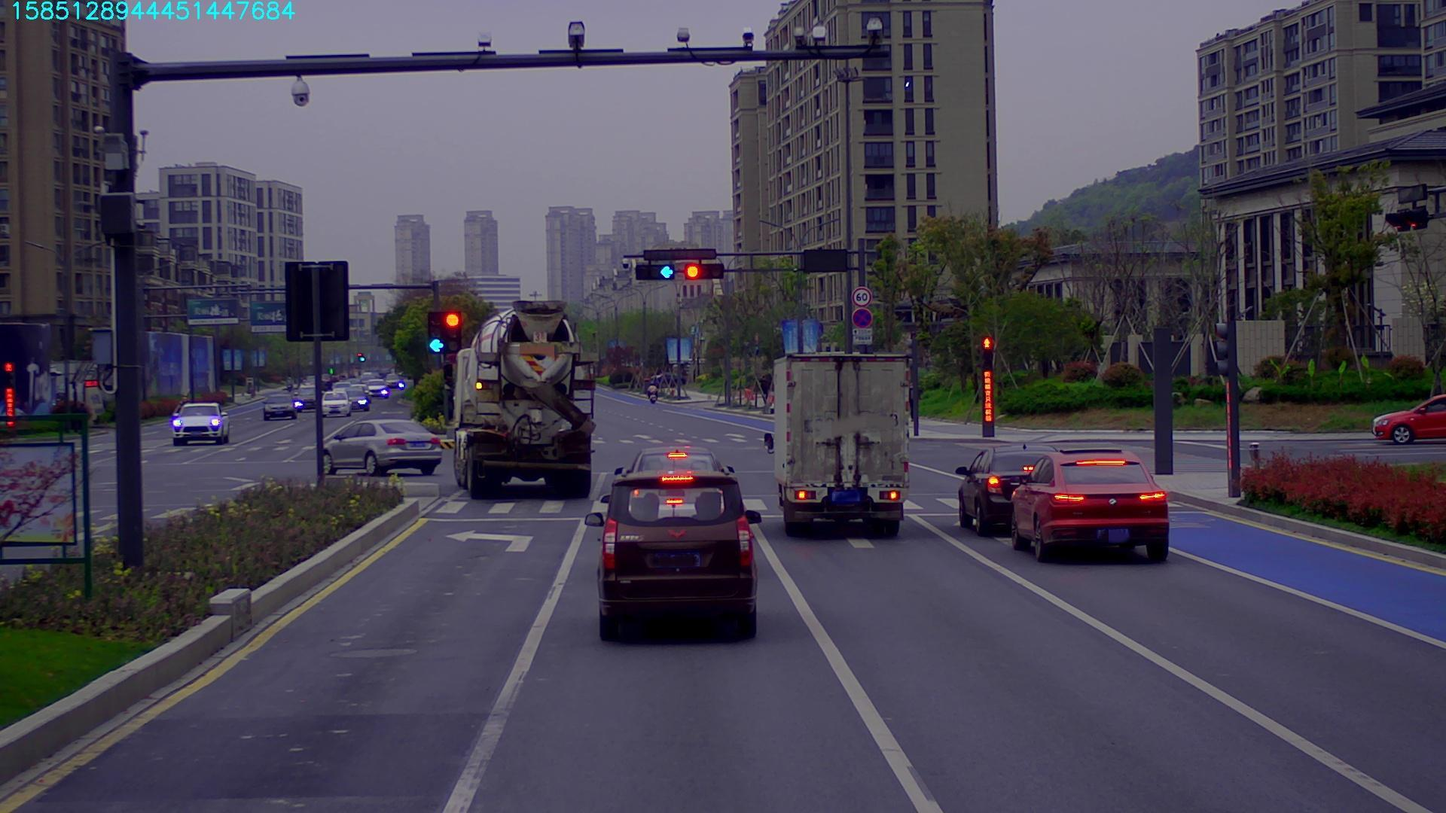green: (633, 263, 676, 284)
red: (680, 264, 718, 282)
